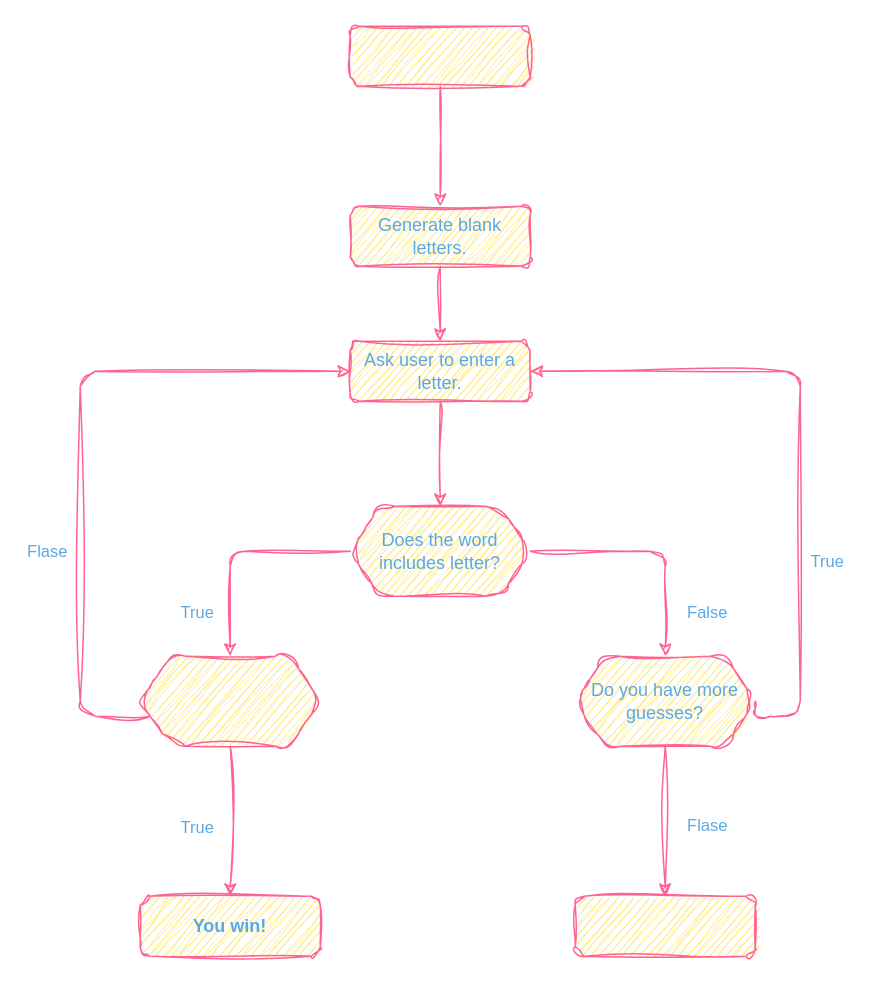
This 869x983 diagram has some shape labels left out. Each missing label, with the centre of its shape:
"Generate random word" belongs at pixel 439 55.
"Is it all letters guesed?" belongs at pixel 229 700.
"You lose :(" belongs at pixel 664 925.
